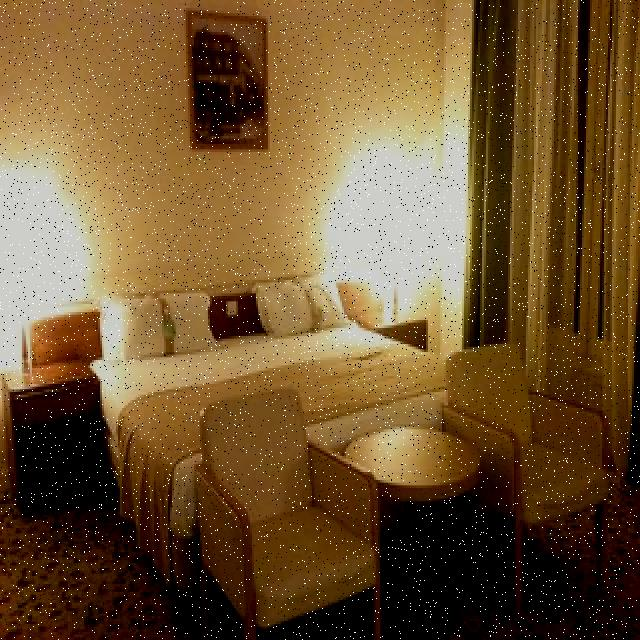bed: (102, 275, 440, 403)
